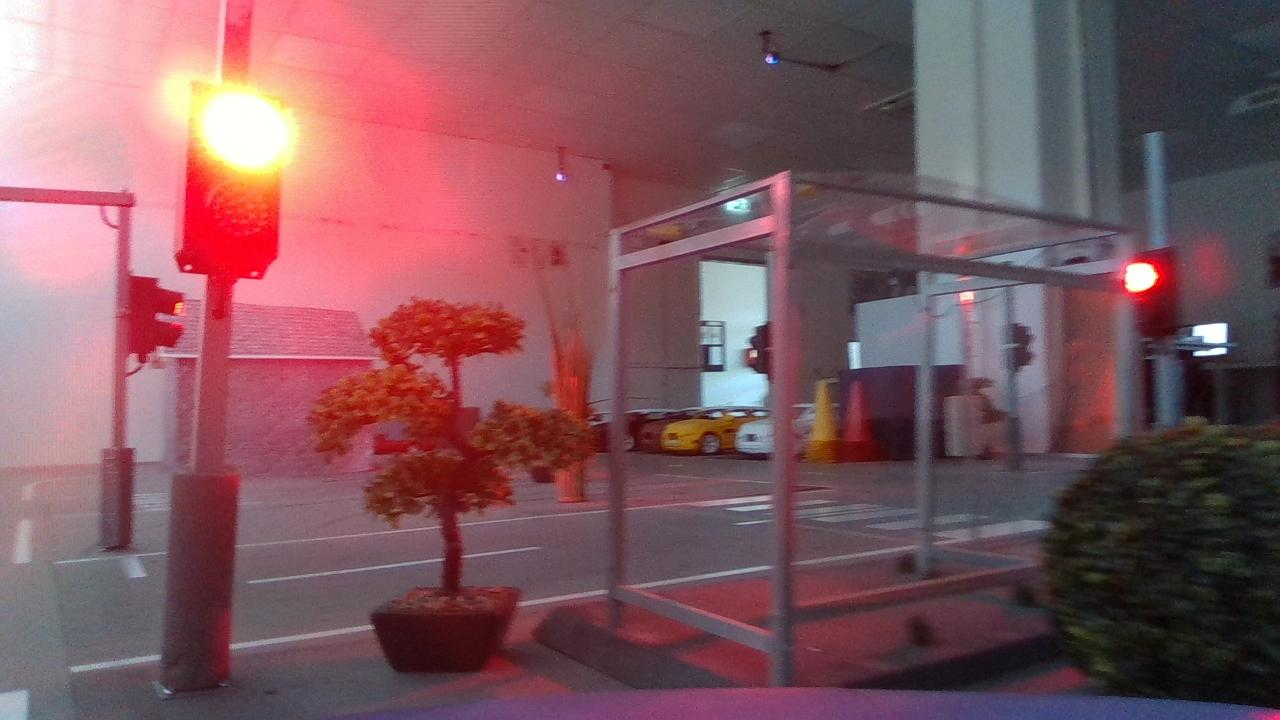traffic_light_red: (155, 55, 299, 302)
